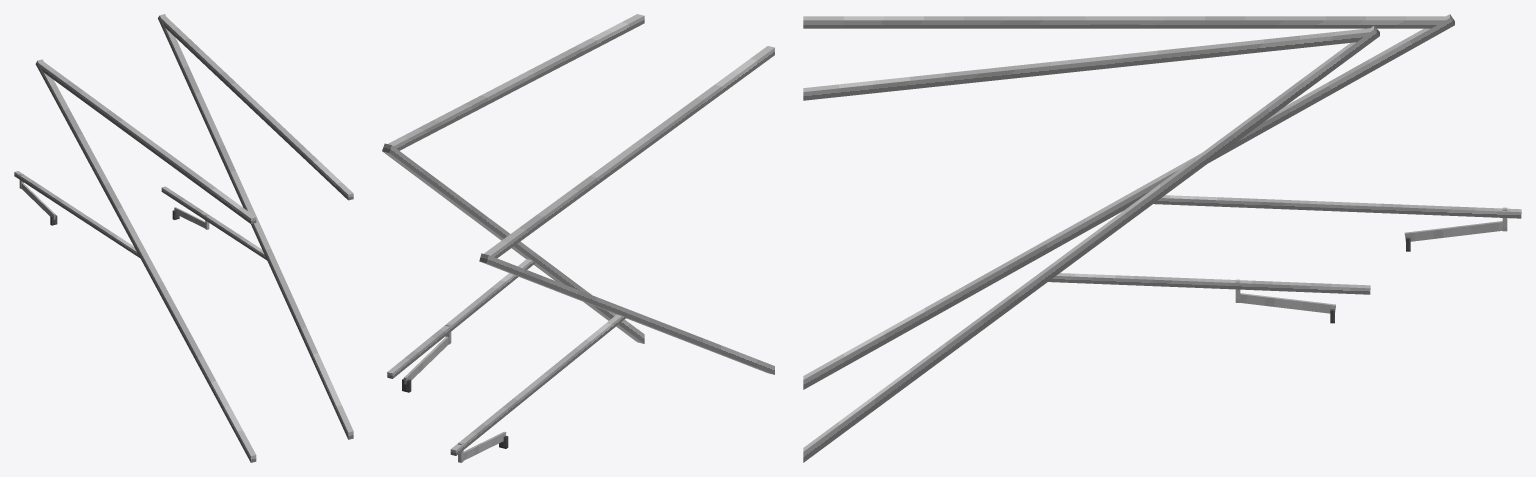
File: cantilever_center_8px.obj
The picture shows the model from 3 angles, left to right: view 1: azimuth 30°, elevation 25°; view 2: azimuth 150°, elevation 25°; view 3: azimuth 270°, elevation 25°; orthographic projection. The views are drawn at different scales.
Visible parts, largest first — view 1: 31138ef6-ec2b-4a42-91c1-13e7e2b7b7a5, 2d7bd7bf-51c3-46e5-bd31-cd458490ef74, 8bcd32bf-ad85-48be-ab18-556f64f8d7f8, 46f8b324-4c17-4c1b-b70e-afcfbc3fd85b, c6db9894-a8d9-4da6-9874-5140fbd69c00, c6f0cfa2-fb4d-4bc9-8256-1eb997d09a72; view 2: 8bcd32bf-ad85-48be-ab18-556f64f8d7f8, 46f8b324-4c17-4c1b-b70e-afcfbc3fd85b, 31138ef6-ec2b-4a42-91c1-13e7e2b7b7a5, 2d7bd7bf-51c3-46e5-bd31-cd458490ef74, c6db9894-a8d9-4da6-9874-5140fbd69c00, c6f0cfa2-fb4d-4bc9-8256-1eb997d09a72, 184c29b5-9f39-4a1e-9617-6c5442fd1f18, 15d2feb1-d8c7-494e-9683-f1480b68b7c2; view 3: 2d7bd7bf-51c3-46e5-bd31-cd458490ef74, 31138ef6-ec2b-4a42-91c1-13e7e2b7b7a5, 8bcd32bf-ad85-48be-ab18-556f64f8d7f8, 46f8b324-4c17-4c1b-b70e-afcfbc3fd85b, c6db9894-a8d9-4da6-9874-5140fbd69c00, c6f0cfa2-fb4d-4bc9-8256-1eb997d09a72, 15d2feb1-d8c7-494e-9683-f1480b68b7c2, 184c29b5-9f39-4a1e-9617-6c5442fd1f18.
Boxes of the visible parts, x1,y1,x2,y2 form: 31138ef6-ec2b-4a42-91c1-13e7e2b7b7a5: (35,59,256,462); 2d7bd7bf-51c3-46e5-bd31-cd458490ef74: (158,14,353,439); 8bcd32bf-ad85-48be-ab18-556f64f8d7f8: (38,62,256,223); 46f8b324-4c17-4c1b-b70e-afcfbc3fd85b: (161,16,353,200); c6db9894-a8d9-4da6-9874-5140fbd69c00: (14,171,140,258); c6f0cfa2-fb4d-4bc9-8256-1eb997d09a72: (161,186,266,260); 8bcd32bf-ad85-48be-ab18-556f64f8d7f8: (484,46,774,258); 46f8b324-4c17-4c1b-b70e-afcfbc3fd85b: (388,14,644,150); 31138ef6-ec2b-4a42-91c1-13e7e2b7b7a5: (479,253,774,374); 2d7bd7bf-51c3-46e5-bd31-cd458490ef74: (382,143,644,343); c6db9894-a8d9-4da6-9874-5140fbd69c00: (450,314,626,455); c6f0cfa2-fb4d-4bc9-8256-1eb997d09a72: (387,259,535,378); 184c29b5-9f39-4a1e-9617-6c5442fd1f18: (404,336,448,384); 15d2feb1-d8c7-494e-9683-f1480b68b7c2: (463,431,506,460); 2d7bd7bf-51c3-46e5-bd31-cd458490ef74: (803,26,1379,462); 31138ef6-ec2b-4a42-91c1-13e7e2b7b7a5: (803,14,1454,389); 8bcd32bf-ad85-48be-ab18-556f64f8d7f8: (803,16,1445,28); 46f8b324-4c17-4c1b-b70e-afcfbc3fd85b: (803,28,1370,100); c6db9894-a8d9-4da6-9874-5140fbd69c00: (1153,195,1521,218); c6f0cfa2-fb4d-4bc9-8256-1eb997d09a72: (1048,273,1370,294); 15d2feb1-d8c7-494e-9683-f1480b68b7c2: (1404,221,1502,241); 184c29b5-9f39-4a1e-9617-6c5442fd1f18: (1240,293,1335,313).
Size of the model in its own units: 1.19 by 3.16 by 4.75.
